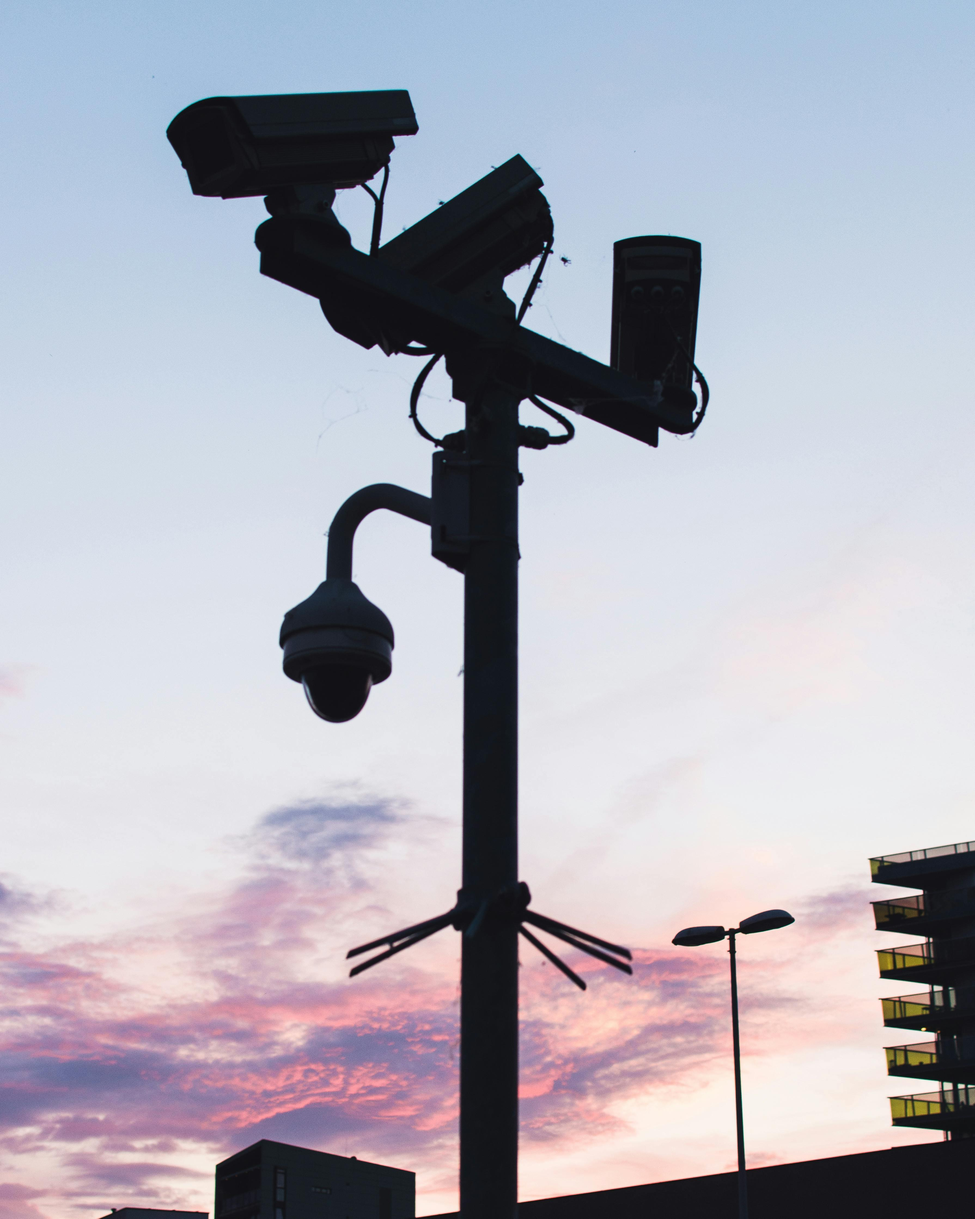camera: (172, 466, 493, 793), (87, 19, 441, 281), (289, 109, 561, 406), (537, 177, 771, 504)
